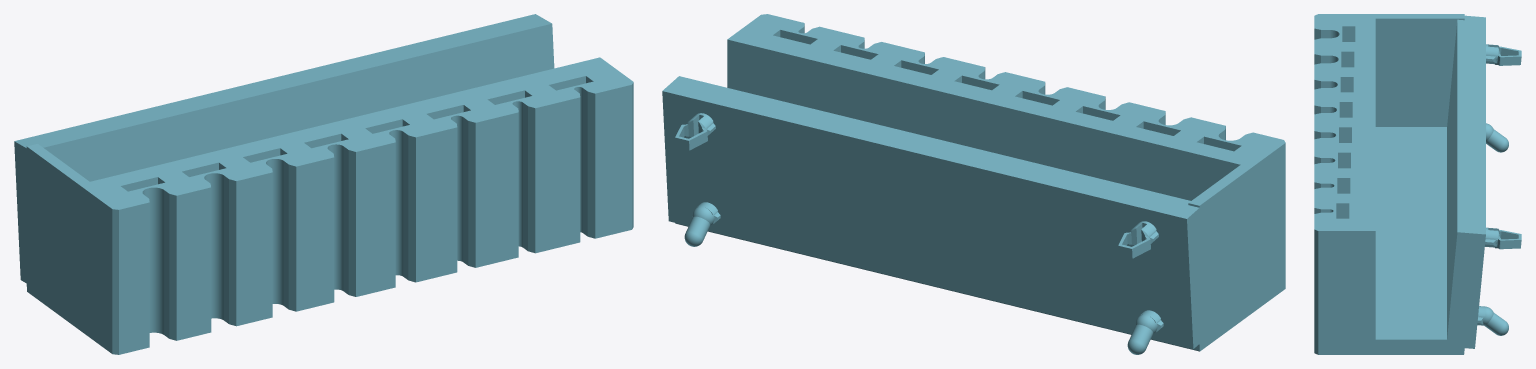
File: part-ms01-a-h__current-mounts-v1__fit-pf02c9-hoop5__print.glb
3 renders of one model, left to right at view 1: azimuth 30°, elevation 25°; view 2: azimuth 150°, elevation 25°; view 3: azimuth 270°, elevation 25°, orthographic. The views are drawn at different scales.
Parts seen in each view (by area): view 1: print.stl; view 2: print.stl; view 3: print.stl.
Boxes of the visible parts, x1,y1,x2,y2 form: print.stl: (14, 14, 633, 354); print.stl: (662, 14, 1285, 354); print.stl: (1314, 14, 1521, 354).
Size of the model in its own units: 0.1504 by 0.04 by 0.0607.
